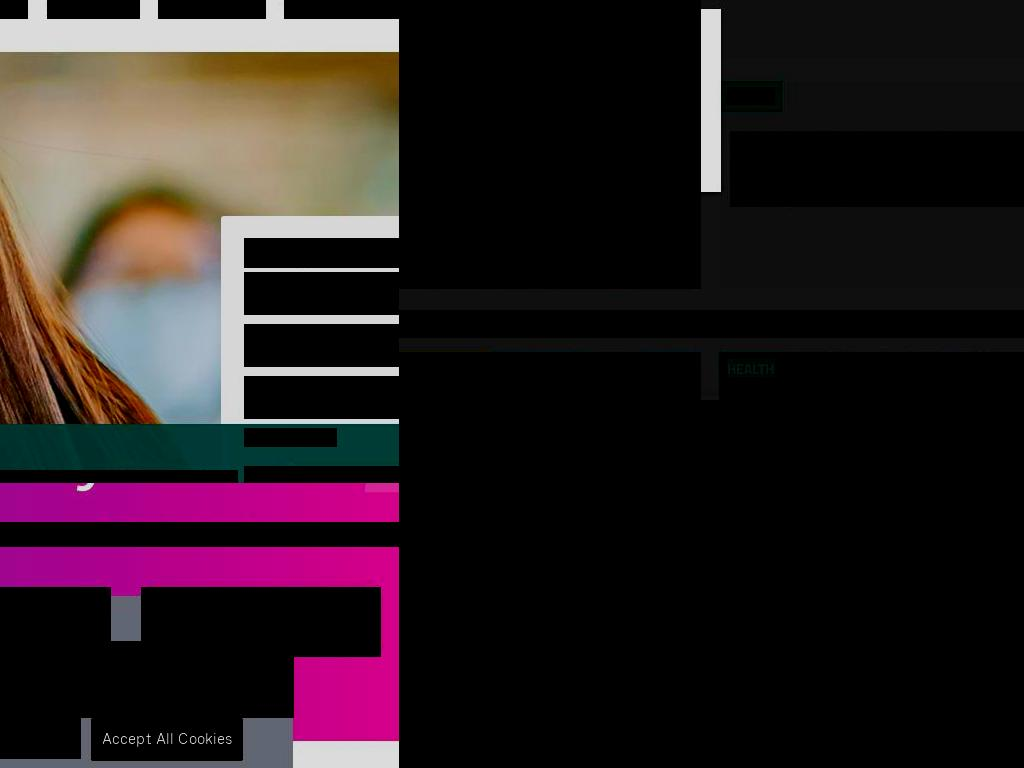button: (399, 483, 1024, 768), (141, 587, 381, 657), (414, 139, 668, 171), (0, 587, 111, 657), (90, 718, 244, 761), (0, 718, 81, 759), (244, 466, 399, 483), (244, 428, 337, 447), (287, 469, 399, 483), (399, 359, 485, 377), (727, 87, 775, 105), (727, 359, 775, 377)
field: (244, 324, 399, 367), (244, 376, 399, 419)
heading: (730, 131, 1024, 207), (399, 310, 1024, 338), (399, 252, 690, 278), (244, 238, 399, 268)
iframe: (399, 400, 905, 483)
image: (399, 0, 701, 289), (719, 352, 1024, 483), (399, 352, 701, 483)
link: (508, 90, 635, 115), (284, 0, 399, 19), (158, 0, 266, 19), (47, 0, 140, 19), (566, 32, 616, 57), (0, 0, 28, 19)
text: (401, 32, 688, 115), (0, 641, 294, 718), (0, 522, 399, 547), (244, 272, 399, 315), (399, 32, 566, 57), (635, 90, 653, 115)
